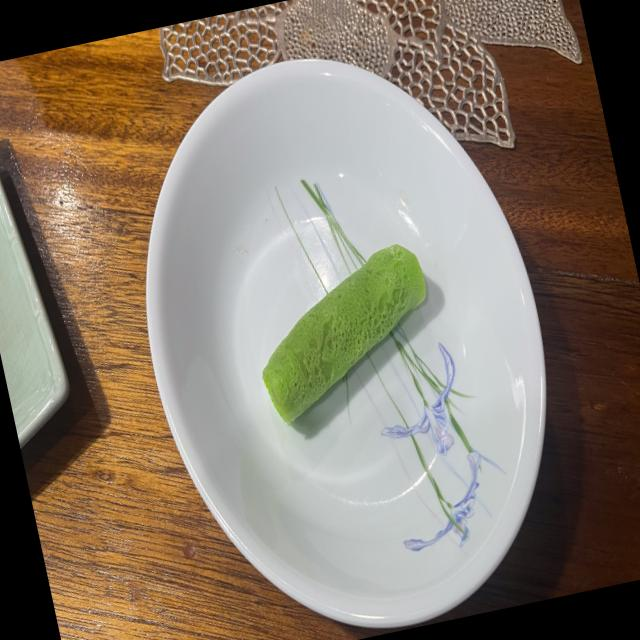Kuih-Ketayap: (262, 244, 426, 423)
